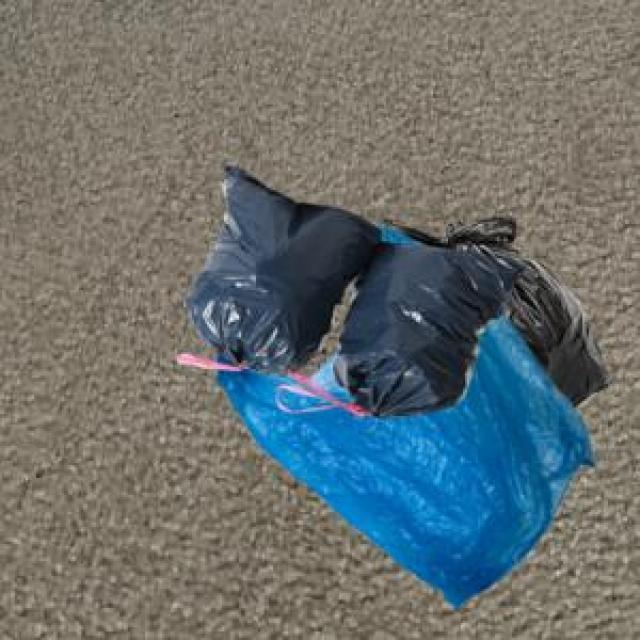miscellaneous trash: (173, 162, 521, 414), (376, 211, 606, 403)
